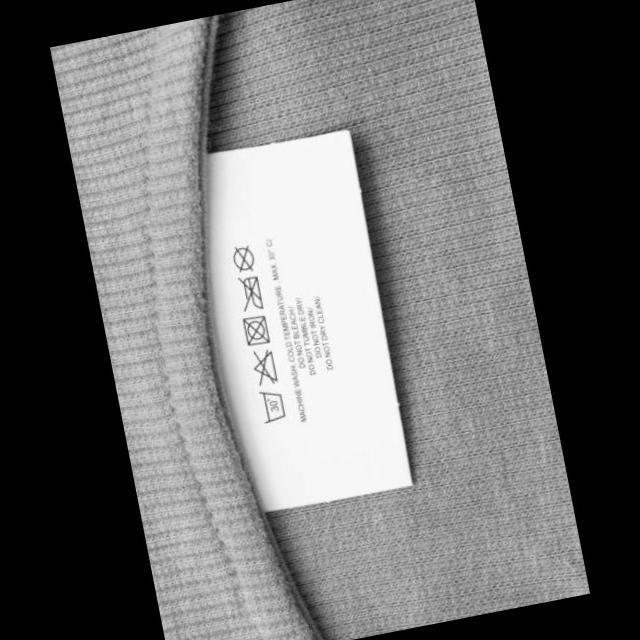30C: (256, 386, 289, 426)
DN_bleach: (248, 346, 280, 388)
DN_dry_clean: (228, 242, 258, 276)
DN_iron: (233, 270, 266, 314)
DN_tumble_dry: (240, 312, 274, 348)
